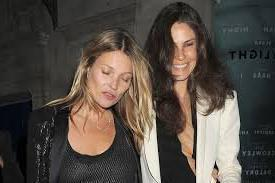Drunk: (93, 51, 130, 106), (166, 26, 198, 79)
